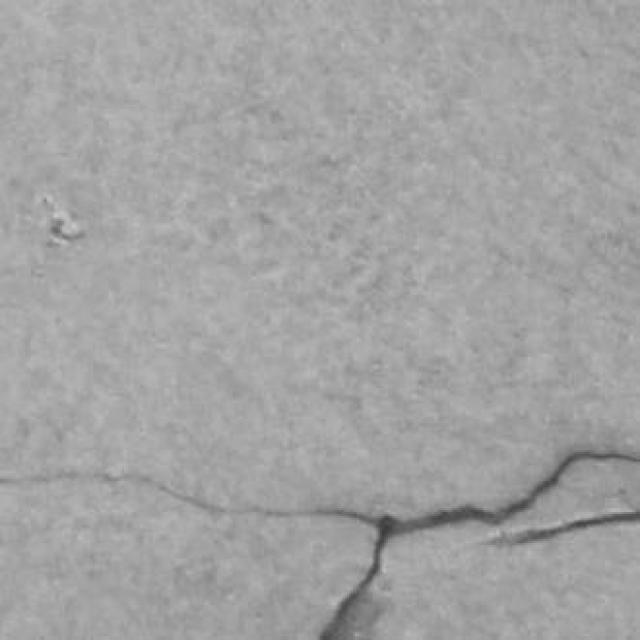crack: (0, 450, 639, 639), (320, 450, 639, 639), (394, 450, 639, 537), (0, 472, 378, 527), (320, 516, 397, 639), (489, 511, 639, 546)
